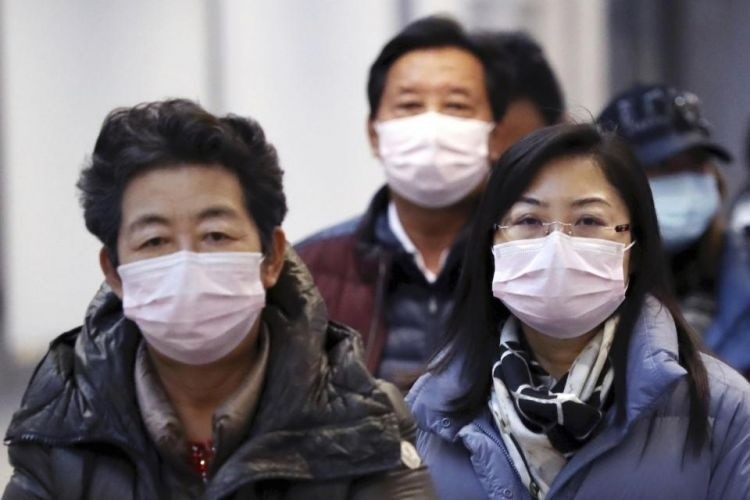face_with_mask: (95, 158, 294, 376), (480, 144, 636, 350), (583, 82, 730, 266), (367, 50, 503, 220)
